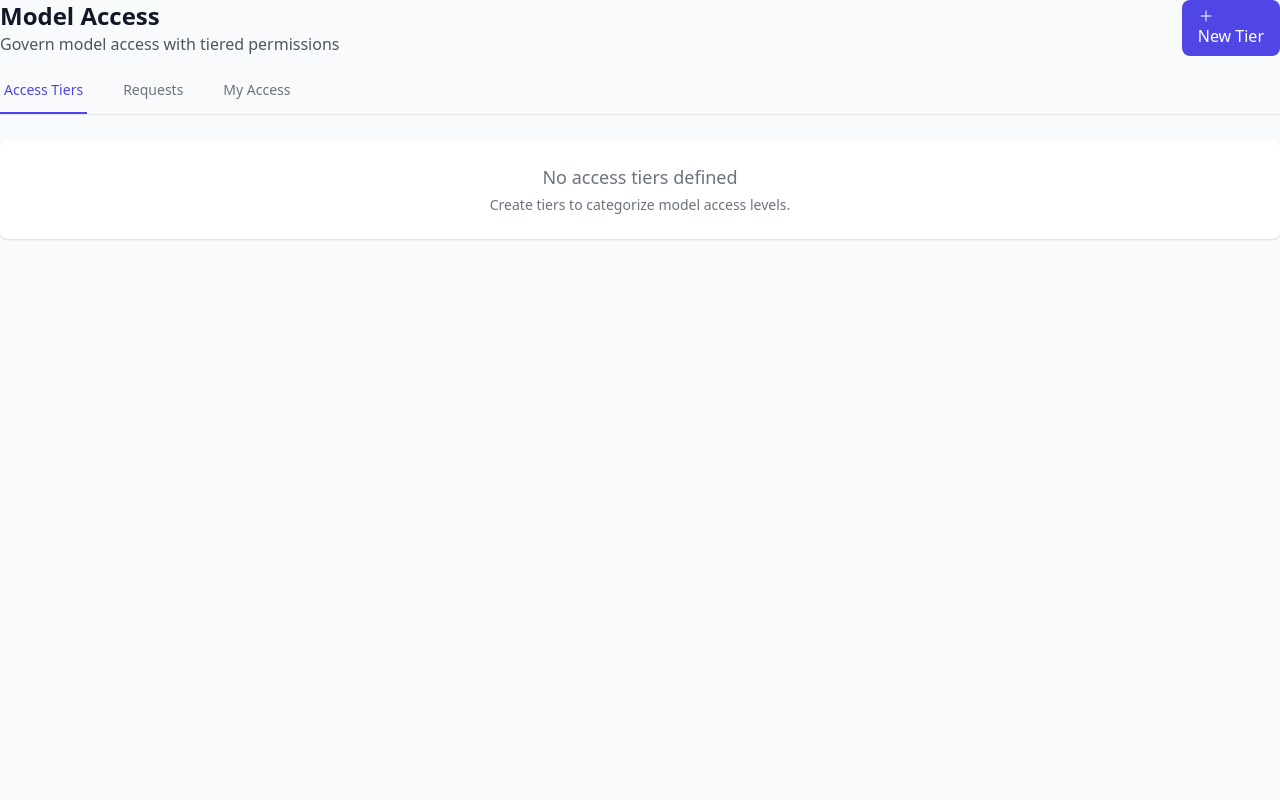
Test: ModelAccess › create tier form disables Create button when name is empty
Click the button "New Tier": x=1231, y=28 [1182,0,1279,56]
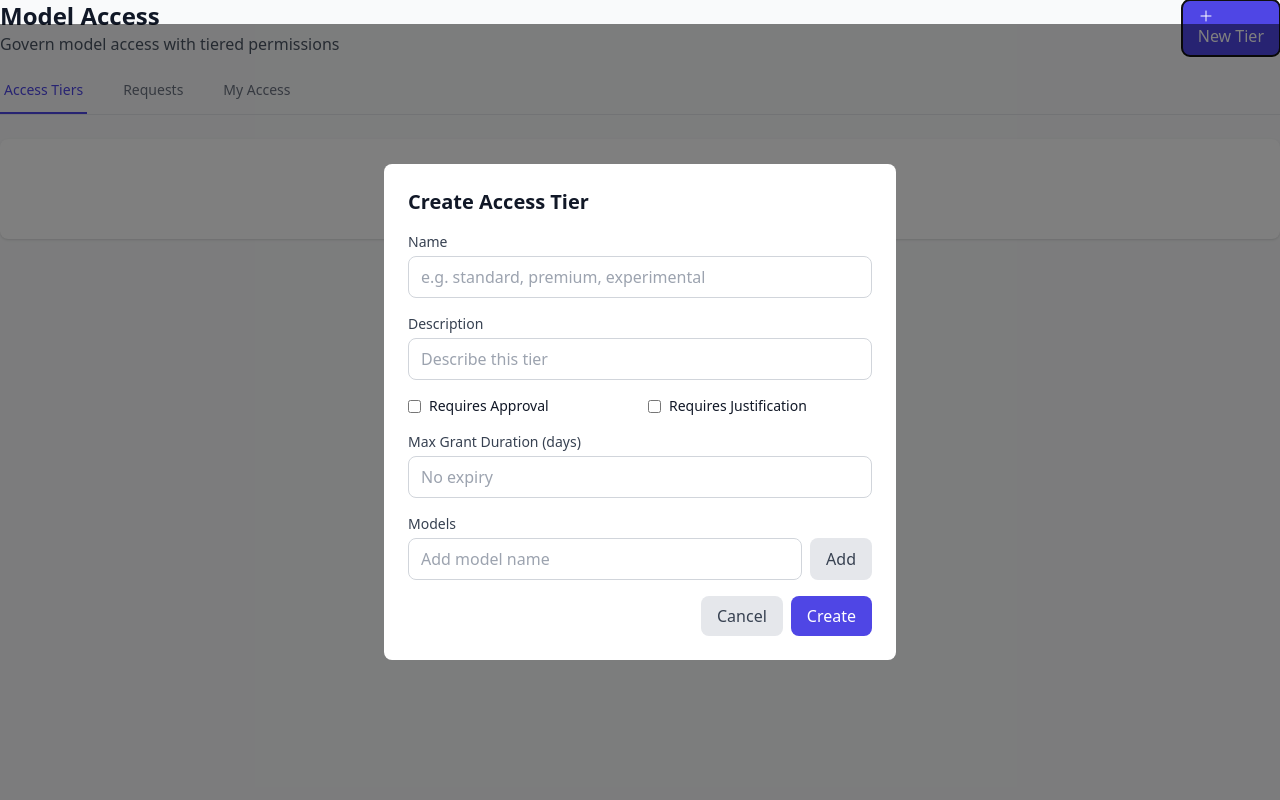
Check: the button "Create" is disabled, box [791,596,872,636]
